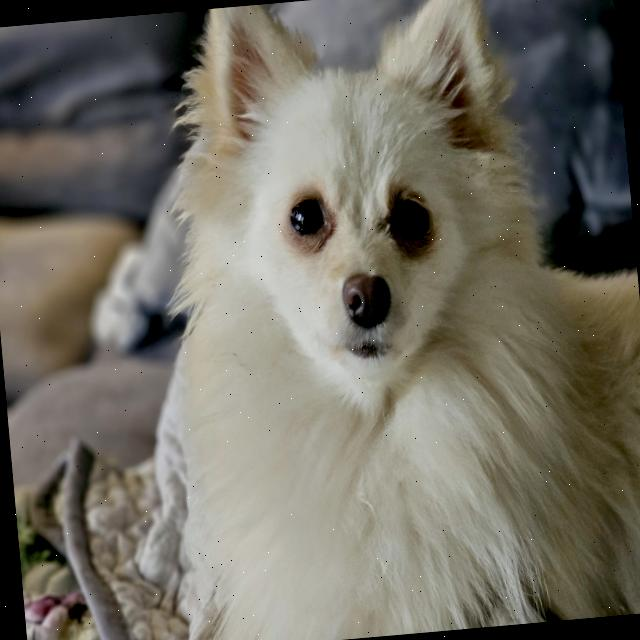pomeranian_dog: (170, 0, 563, 434)
